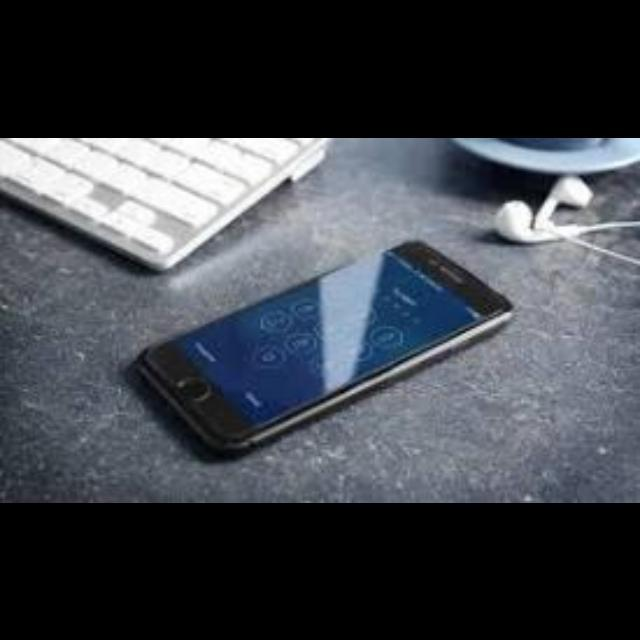Phone: (132, 237, 510, 448)
